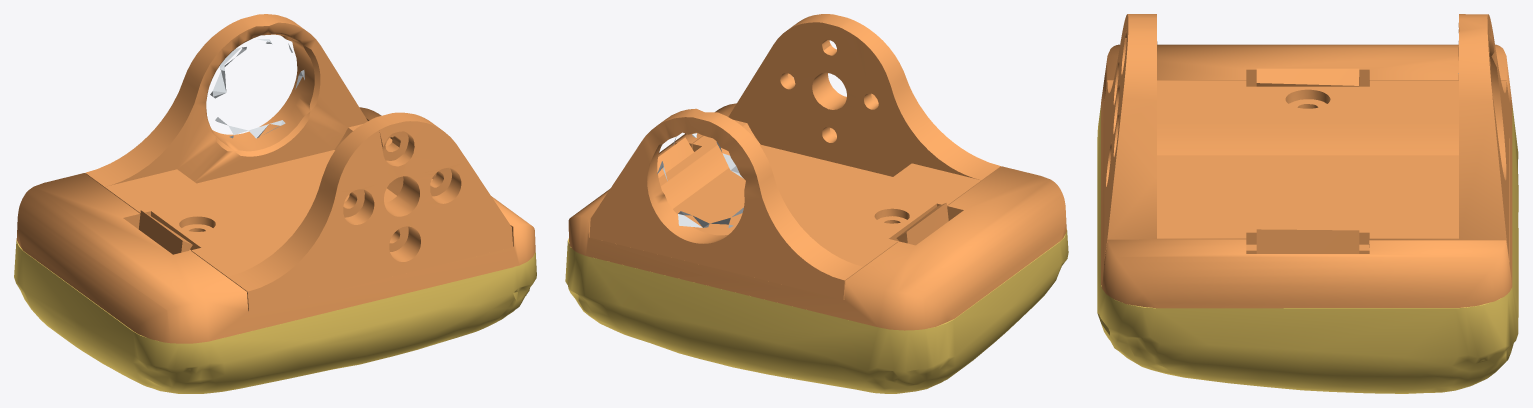
Rendered from ankle_left.glb.
3 renders of one model, left to right at view 1: azimuth 30°, elevation 25°; view 2: azimuth 150°, elevation 25°; view 3: azimuth 270°, elevation 25°, orthographic. The views are drawn at different scales.
Parts seen in each view (by area): view 1: ankle_left_body_2, ankle_left_body_1, ankle_left_body_0; view 2: ankle_left_body_2, ankle_left_body_1, ankle_left_body_0; view 3: ankle_left_body_2, ankle_left_body_1.
Part boxes in pixels (x1,y1,x2,y2): ankle_left_body_2: (16, 14, 535, 343); ankle_left_body_1: (14, 240, 536, 393); ankle_left_body_0: (210, 39, 304, 138); ankle_left_body_2: (568, 14, 1066, 330); ankle_left_body_1: (565, 229, 1068, 393); ankle_left_body_0: (657, 133, 743, 227); ankle_left_body_2: (1101, 14, 1512, 308); ankle_left_body_1: (1097, 105, 1518, 393).
Bounding box in the file's own units: 0.054 × 0.0342 × 0.0411.
